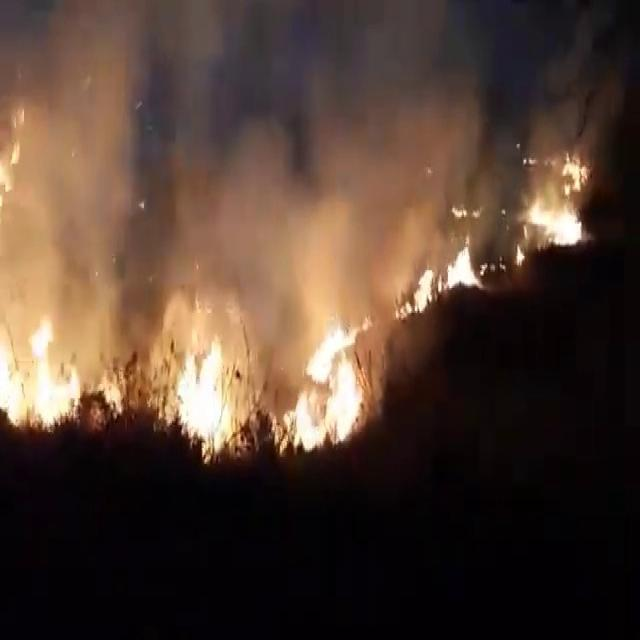Fire: (3, 302, 123, 440), (278, 315, 371, 457), (173, 334, 255, 457), (526, 196, 584, 247), (446, 242, 484, 292), (398, 266, 434, 316), (559, 158, 585, 194)
Smoke: (9, 23, 552, 370)
